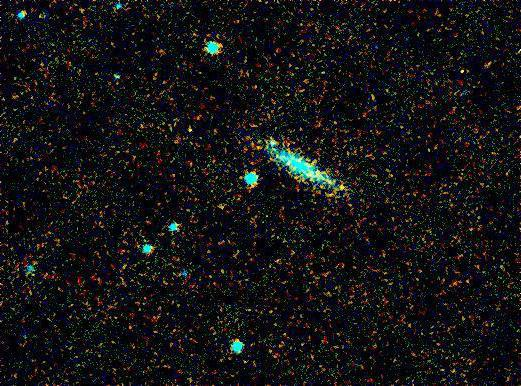star: (177, 112, 207, 142)
